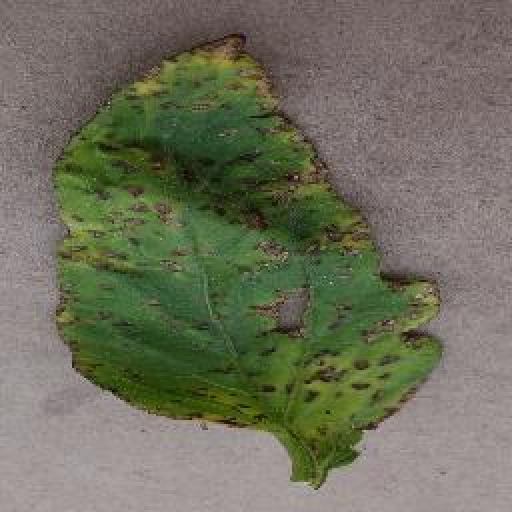Bacterial Spot: (51, 28, 445, 472)
